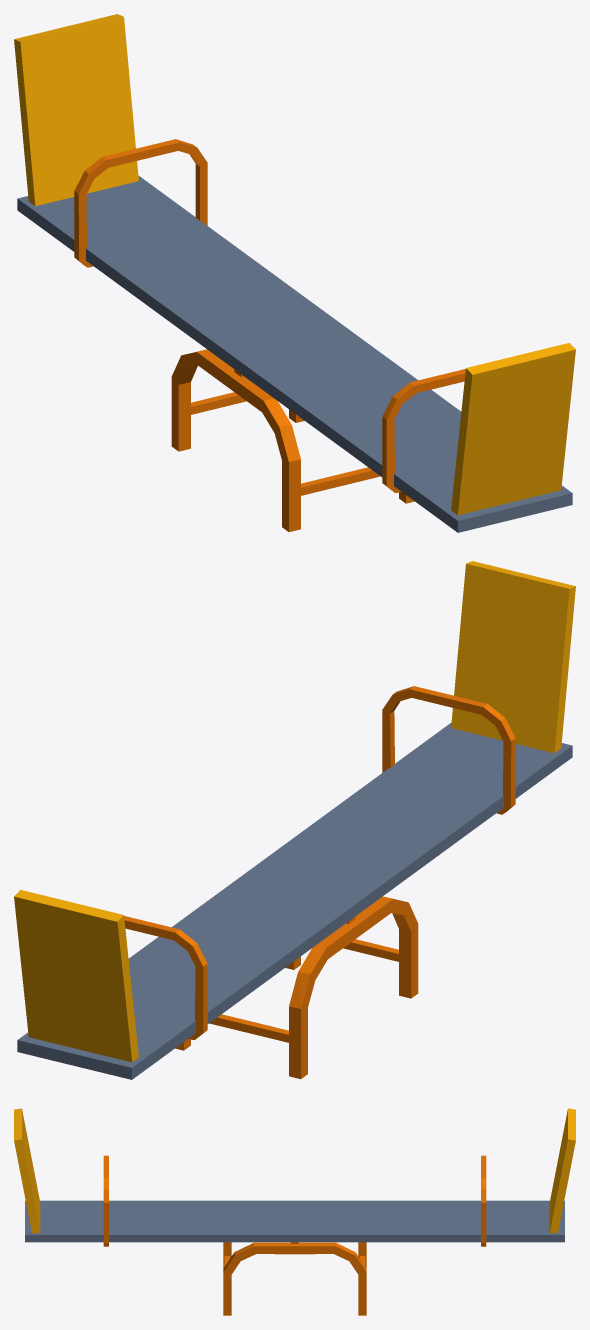
File: Playground_03.fbx
The picture shows the model from 3 angles, top to bottom: view 1: azimuth 30°, elevation 25°; view 2: azimuth 150°, elevation 25°; view 3: azimuth 270°, elevation 25°; orthographic projection. The views are drawn at different scales.
Parts seen in each view (by area): view 1: Playground_03; view 2: Playground_03; view 3: Playground_03.
Part boxes in pixels (bbox=[...]): Playground_03: bbox=[14, 14, 575, 532]; Playground_03: bbox=[14, 561, 575, 1079]; Playground_03: bbox=[14, 1108, 575, 1315].
Size of the model in its own units: 33.9 by 70.44 by 208.
